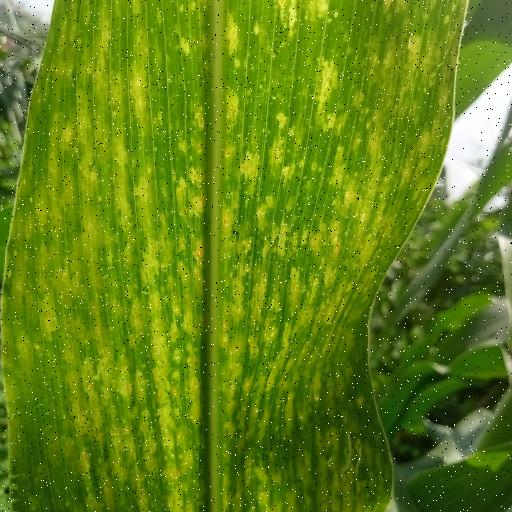Corn_Brown_Spots: (10, 3, 457, 512)
